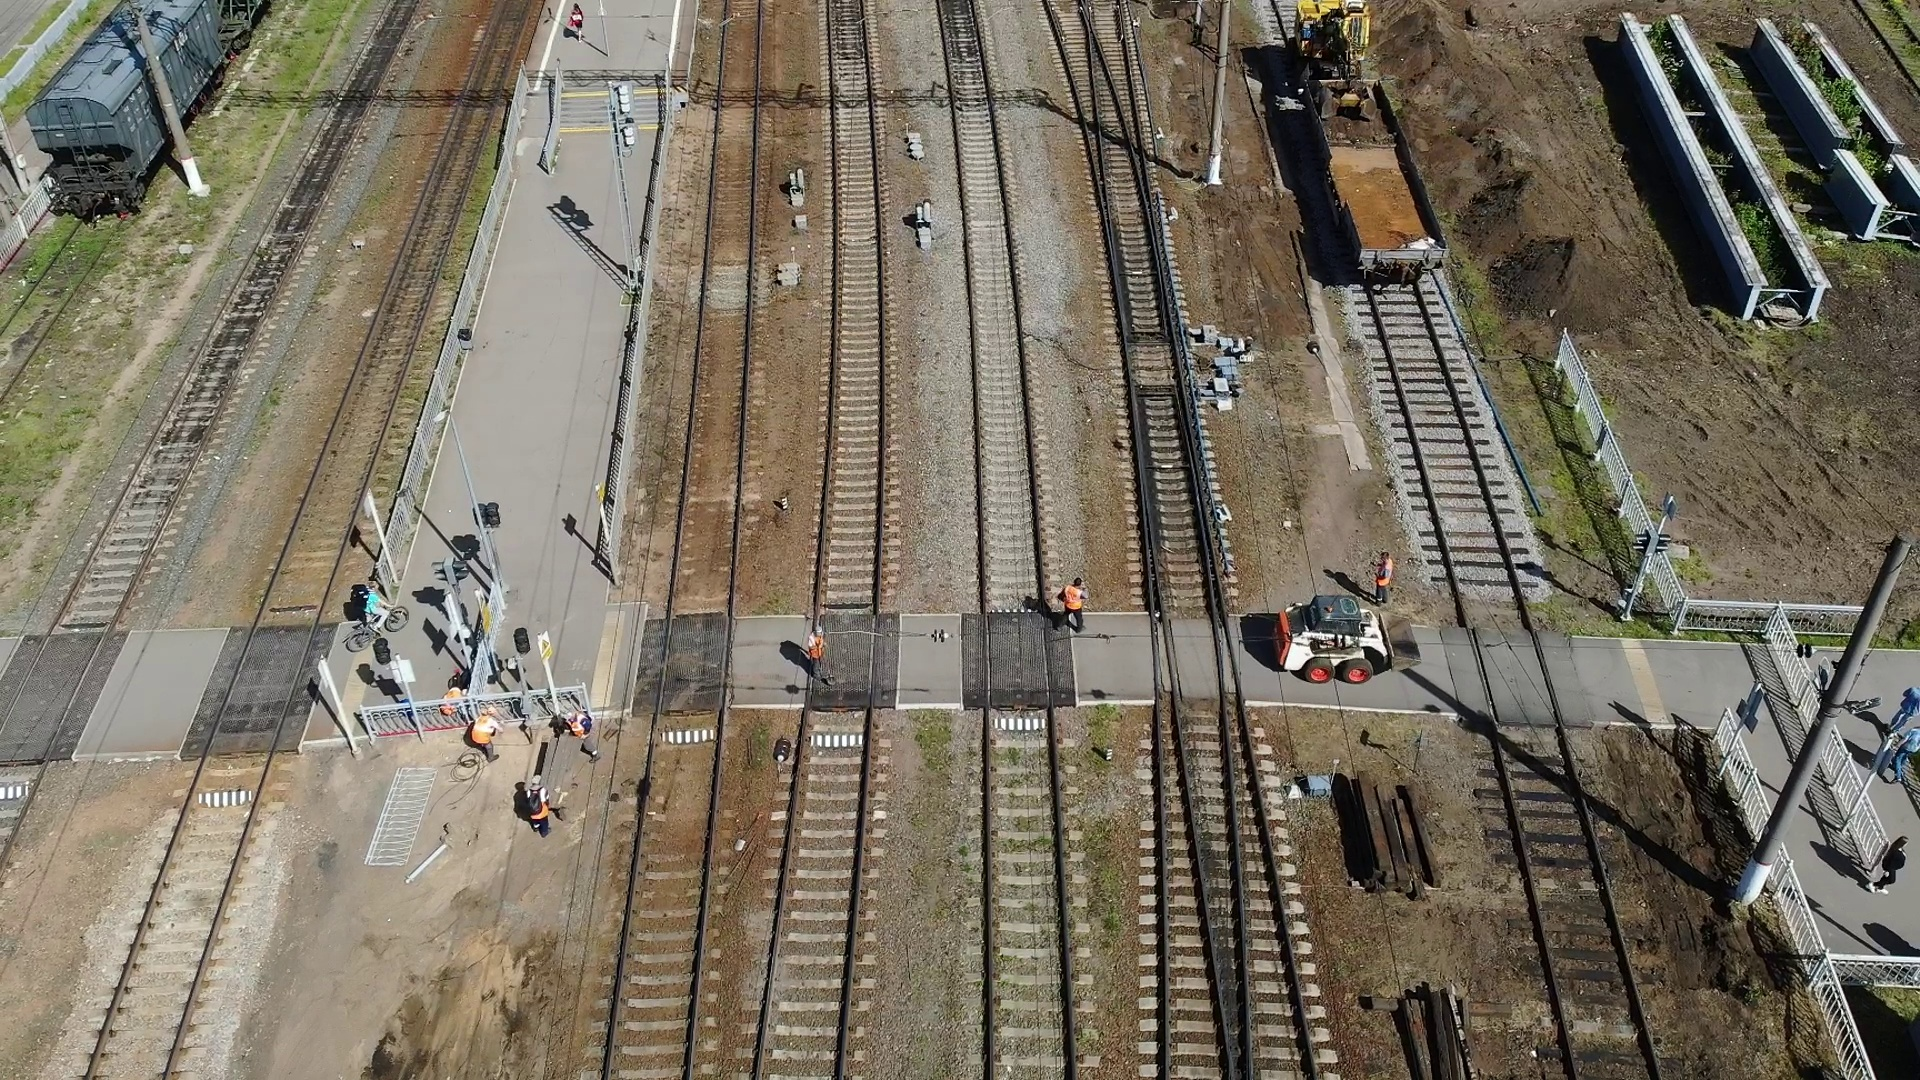kjtv: (1296, 4, 1367, 87)
